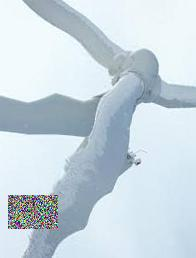faulty: (65, 81, 142, 210)
